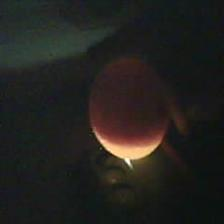fertile: (86, 48, 172, 164)
